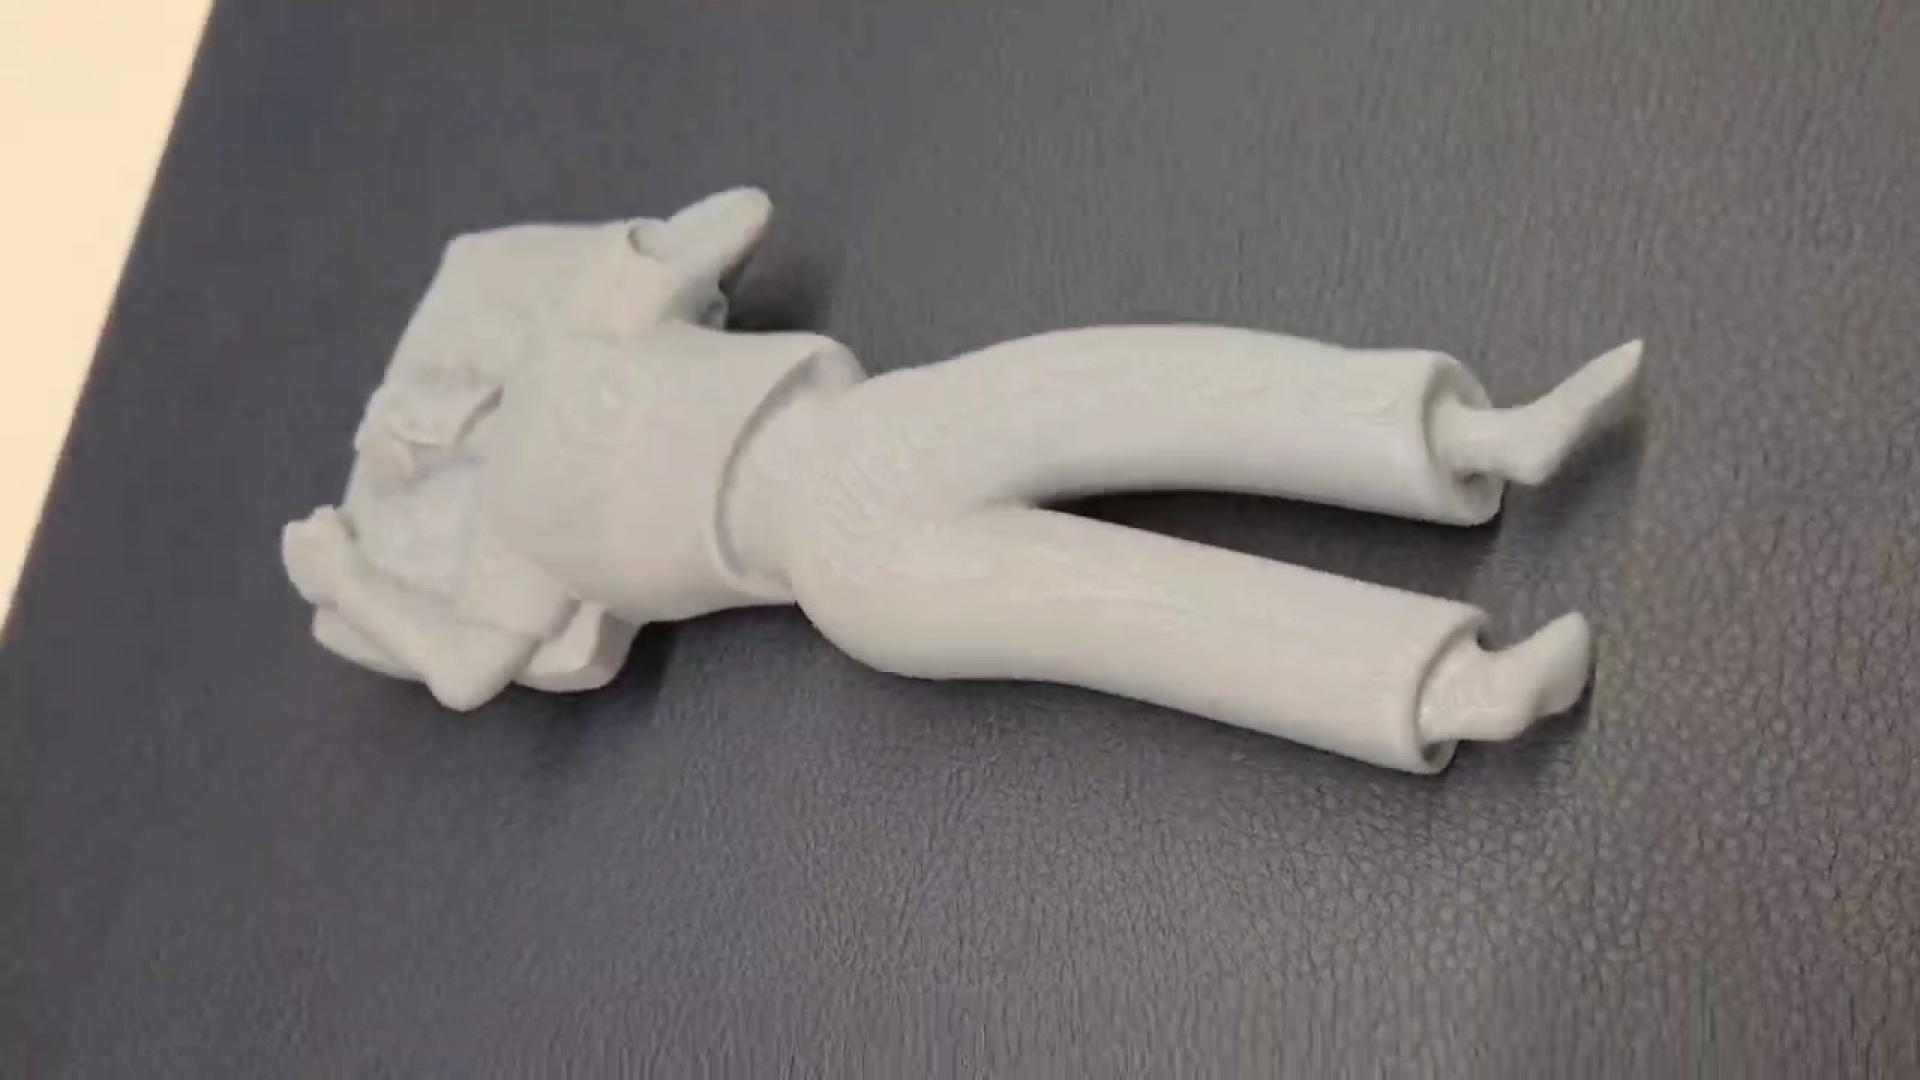Bad-style: (282, 177, 1639, 775)
